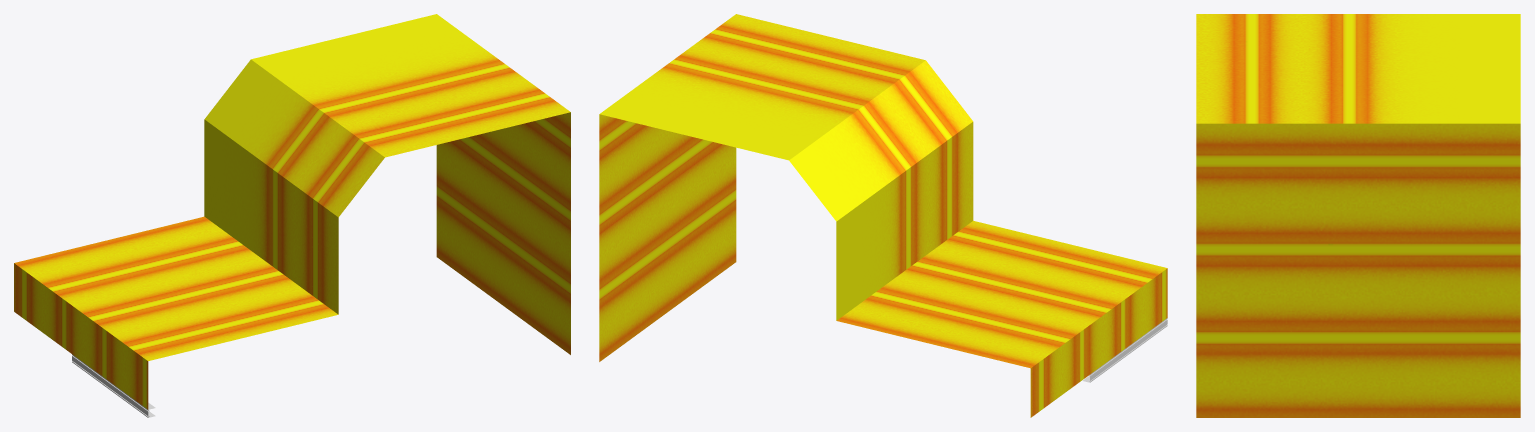
3 renders of one model, left to right at view 1: azimuth 30°, elevation 25°; view 2: azimuth 150°, elevation 25°; view 3: azimuth 270°, elevation 25°, orthographic. The views are drawn at different scales.
Visible parts, largest first — view 1: Cube.039; view 2: Cube.039; view 3: Cube.039.
Boxes of the visible parts, x1,y1,x2,y2 form: Cube.039: [14, 14, 570, 417]; Cube.039: [599, 14, 1167, 417]; Cube.039: [1196, 14, 1520, 417].
Bounding box in the file's own units: 2729 × 1500 × 1500.
